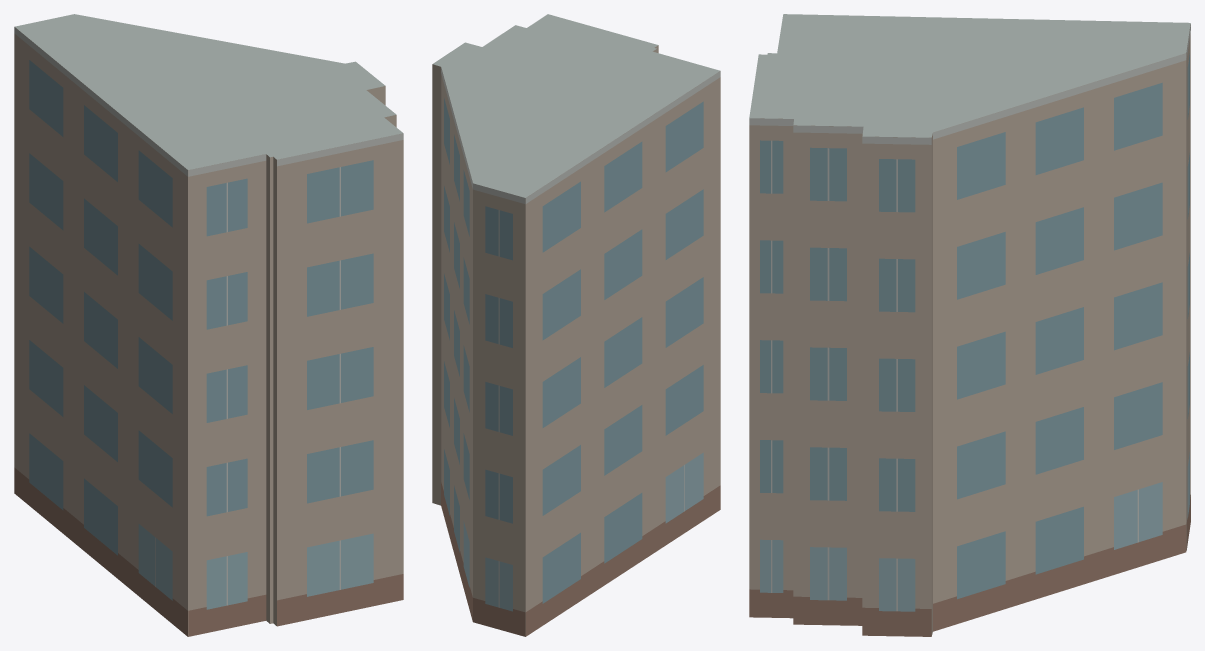
File: survey-upis-32503346.glb
3 views of the same model, side by side, from view 1: azimuth 30°, elevation 25°; view 2: azimuth 150°, elevation 25°; view 3: azimuth 270°, elevation 25° (orthographic). The views are drawn at different scales.
Visible parts, largest first — view 1: survey-upis-32503346.tmp; view 2: survey-upis-32503346.tmp; view 3: survey-upis-32503346.tmp.
Boxes of the visible parts, x1=… form: survey-upis-32503346.tmp: x1=14, y1=14, x2=403, y2=636; survey-upis-32503346.tmp: x1=432, y1=14, x2=720, y2=636; survey-upis-32503346.tmp: x1=749, y1=14, x2=1190, y2=636.
Bounding box in the file's own units: 9.1 × 17.1 × 13.72.
